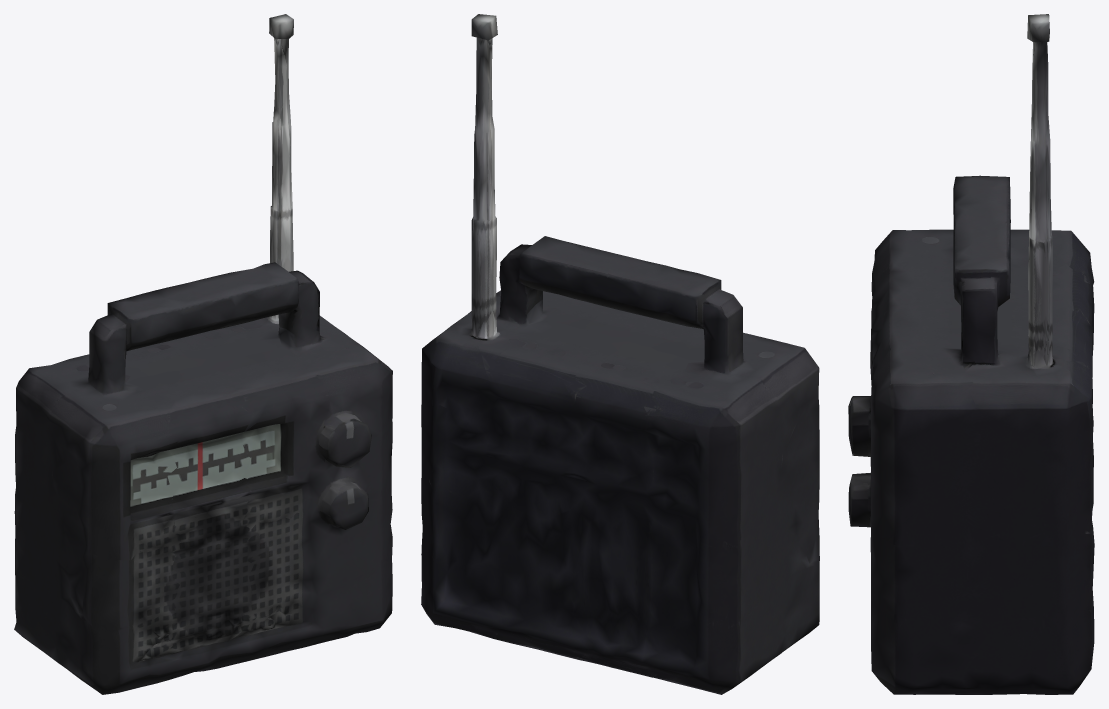
Rendered from radio.fbx.
3 views of the same model, side by side, from view 1: azimuth 30°, elevation 25°; view 2: azimuth 150°, elevation 25°; view 3: azimuth 270°, elevation 25° (orthographic). The views are drawn at different scales.
Visible parts, largest first — view 1: aiprintgen_tmp6eoqix8p.obj; view 2: aiprintgen_tmp6eoqix8p.obj; view 3: aiprintgen_tmp6eoqix8p.obj.
Part boxes in pixels (x1,y1,x2,y2): aiprintgen_tmp6eoqix8p.obj: [14, 14, 392, 694]; aiprintgen_tmp6eoqix8p.obj: [421, 14, 819, 694]; aiprintgen_tmp6eoqix8p.obj: [848, 14, 1094, 694].
Bounding box in the file's own units: 0.7259 × 1.3 × 0.4408.
Materials: 1 (1 with a texture image).
